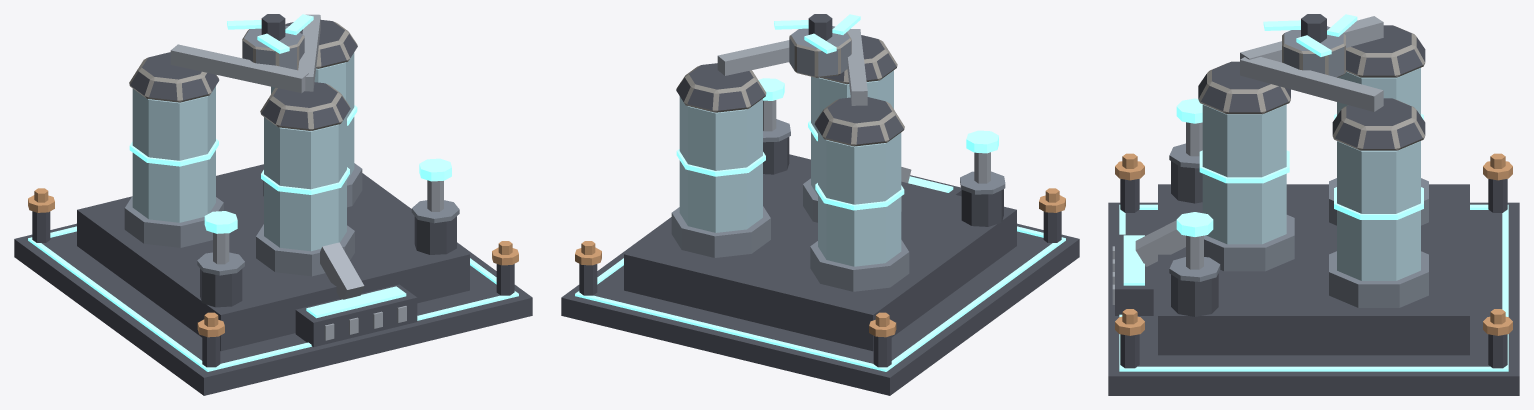
File: filtro_agua_sem_textura.glb
3 renders of one model, left to right at view 1: azimuth 30°, elevation 25°; view 2: azimuth 150°, elevation 25°; view 3: azimuth 270°, elevation 25°, orthographic. The views are drawn at different scales.
Parts seen in each view (by area): view 1: filtro_agua_corpo, filtro_agua_rotor, filtro_agua_pistao0, filtro_agua_pistao1; view 2: filtro_agua_corpo, filtro_agua_rotor, filtro_agua_pistao0, filtro_agua_pistao1; view 3: filtro_agua_corpo, filtro_agua_rotor, filtro_agua_pistao1, filtro_agua_pistao0.
Part boxes in pixels (x1,y1,x2,y2): filtro_agua_corpo: (14,14,532,395); filtro_agua_rotor: (227,14,313,53); filtro_agua_pistao0: (204,211,237,264); filtro_agua_pistao1: (419,158,451,211); filtro_agua_corpo: (561,26,1079,395); filtro_agua_rotor: (774,14,860,53); filtro_agua_pistao0: (966,130,998,183); filtro_agua_pistao1: (758,78,784,131); filtro_agua_corpo: (1108,16,1519,395); filtro_agua_rotor: (1263,14,1357,56); filtro_agua_pistao1: (1176,212,1213,269); filtro_agua_pistao0: (1176,98,1202,156).
Bounding box in the file's own units: 1.9 × 1.48 × 1.9.
